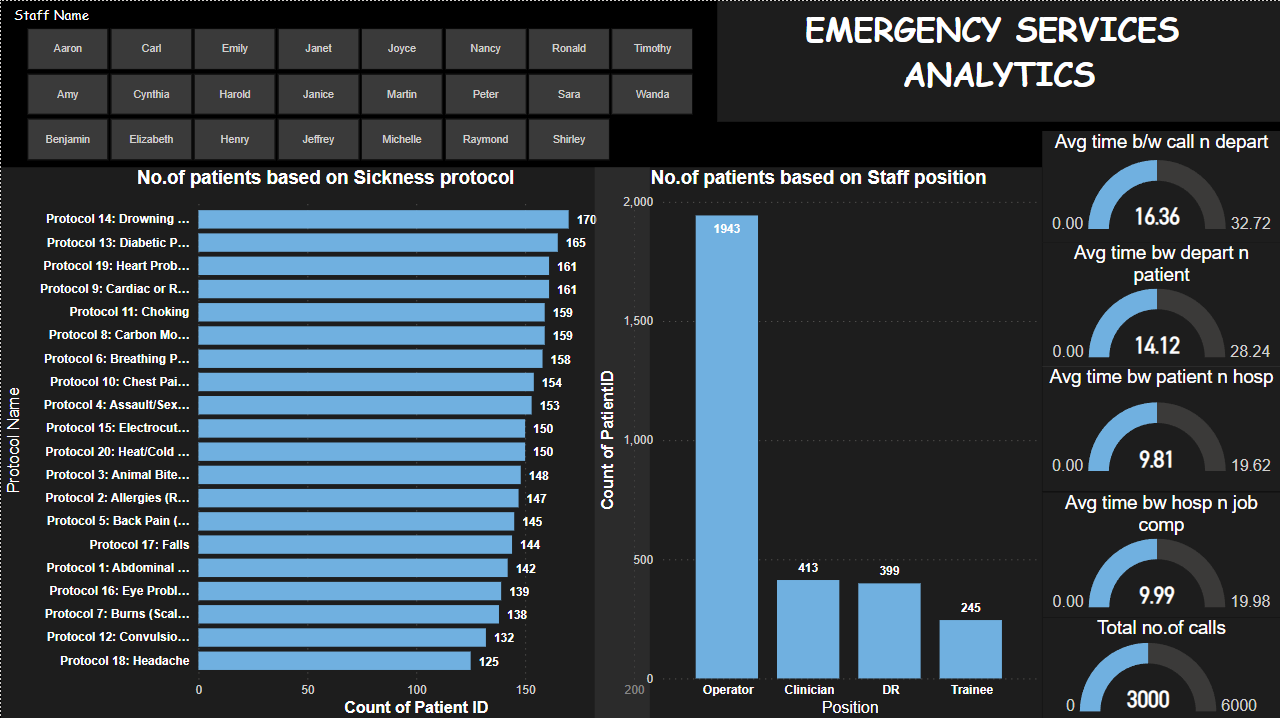

The dashboard page shown, as its layout file describes it:
{"tool":"powerbi","page":{"name":"Page 1","canvas":[1280,720],"ordinal":0},"visuals":[{"type":"gauge","title":"Avg time b/w call n depart","fields":{"Y":["CallTimings.call n depart"]},"box":[1041.5,129.6,238.4,111.2],"z":0},{"type":"gauge","title":"Avg time bw depart n patient ","fields":{"Y":["CallTimings.depart n patient"]},"box":[1041.5,240.8,238.4,124.7],"z":1000},{"type":"gauge","title":"Avg time bw patient n hosp","fields":{"Y":["CallTimings.patient n hosp"]},"box":[1041.5,365.5,238.4,125.9],"z":2000},{"type":"gauge","title":"Avg time bw hosp n job comp","fields":{"Y":["CallTimings.hosp n job comp"]},"box":[1041.5,491.4,238.4,124.7],"z":3000},{"type":"gauge","title":"Total no.of calls","fields":{"Y":["CallTimings.Date of call"]},"box":[1041.5,616.1,238.4,103.9],"z":4000},{"type":"barChart","title":"No.of patients based on Sickness protocol","fields":{"Y":["CallTimings.Patient ID"],"Category":["dimDispatchCode.Protocol Name"]},"box":[0,166.2,649.1,553.8],"z":5000},{"type":"columnChart","title":"No.of patients based on Staff position","fields":{"Y":["dimPatient.PatientID"],"Category":["dimCallStaff.Position"]},"box":[594.1,166.2,447.4,553.8],"z":6000},{"type":"slicer","fields":{"Values":["dimCallStaff.FirstName"]},"box":[0,0,716.3,166.2],"z":7000},{"type":"textbox","box":[716.3,0,563.5,121],"z":8000}]}

Visuals, with their boxes in screenshot pixels (x1, y1, x2, y2), scaled from the page's 1280x720 canvas onto the 1280x718 screenshot:
"Avg time b/w call n depart" gauge: (1042, 129, 1279, 240)
"Avg time bw depart n patient " gauge: (1042, 240, 1279, 364)
"Avg time bw patient n hosp" gauge: (1042, 364, 1279, 490)
"Avg time bw hosp n job comp" gauge: (1042, 490, 1279, 614)
"Total no.of calls" gauge: (1042, 614, 1279, 717)
"No.of patients based on Sickness protocol" barChart: (0, 166, 649, 717)
"No.of patients based on Staff position" columnChart: (594, 166, 1042, 717)
slicer - dimCallStaff.FirstName: (0, 0, 716, 166)
textbox: (716, 0, 1279, 121)
